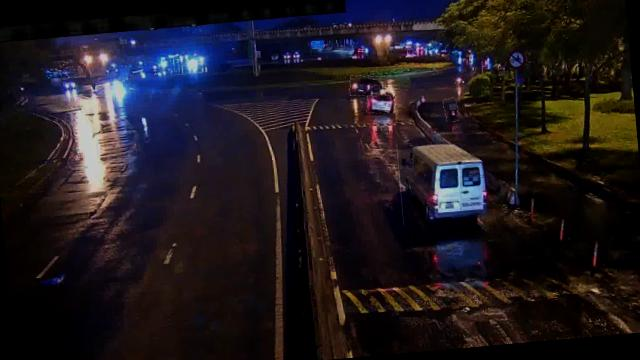Bike: (444, 98, 459, 123)
Bus: (396, 137, 487, 226)
Car: (349, 74, 387, 98), (366, 89, 396, 116)
